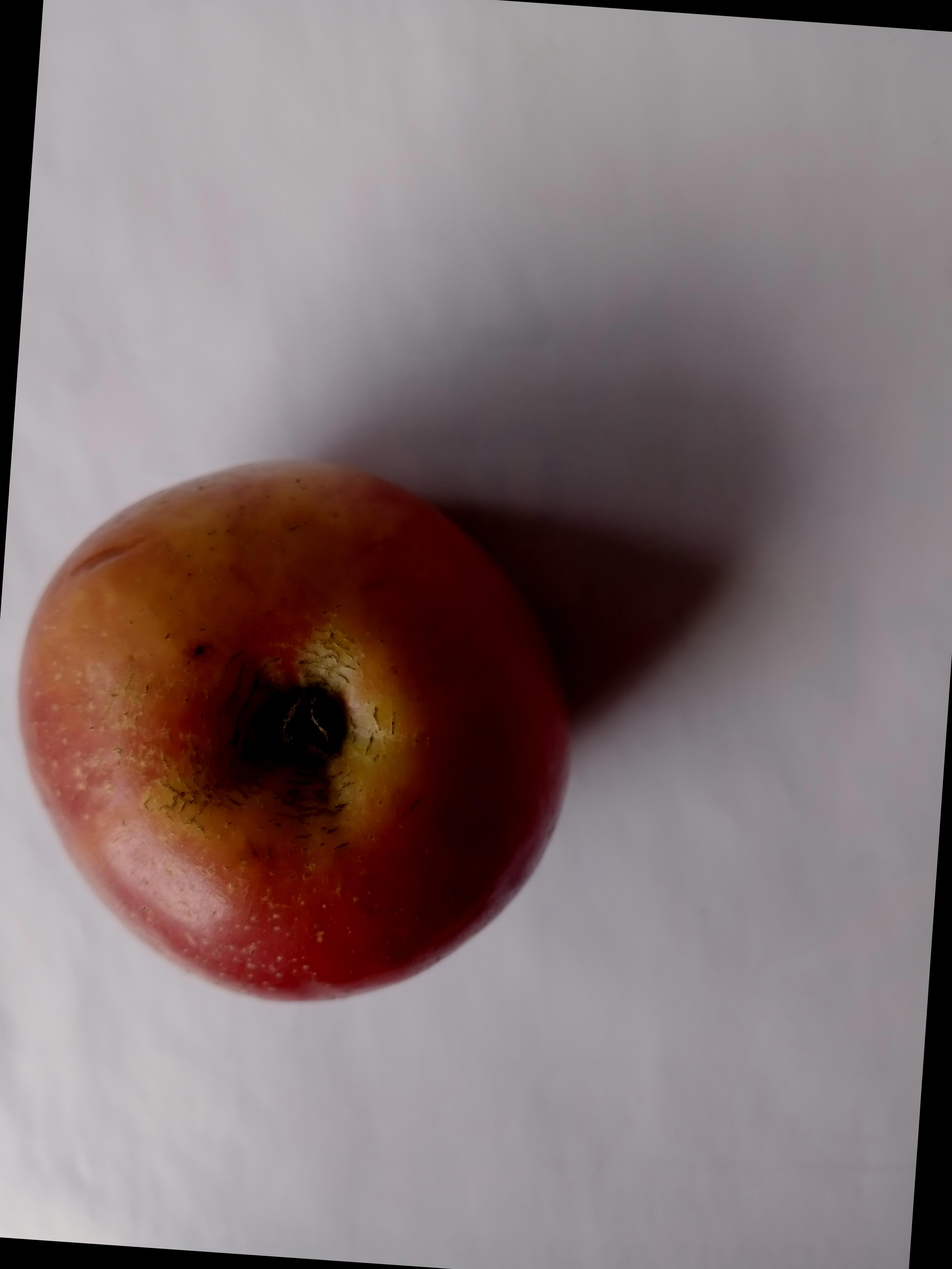Apple Ripe: (31, 393, 721, 999)
